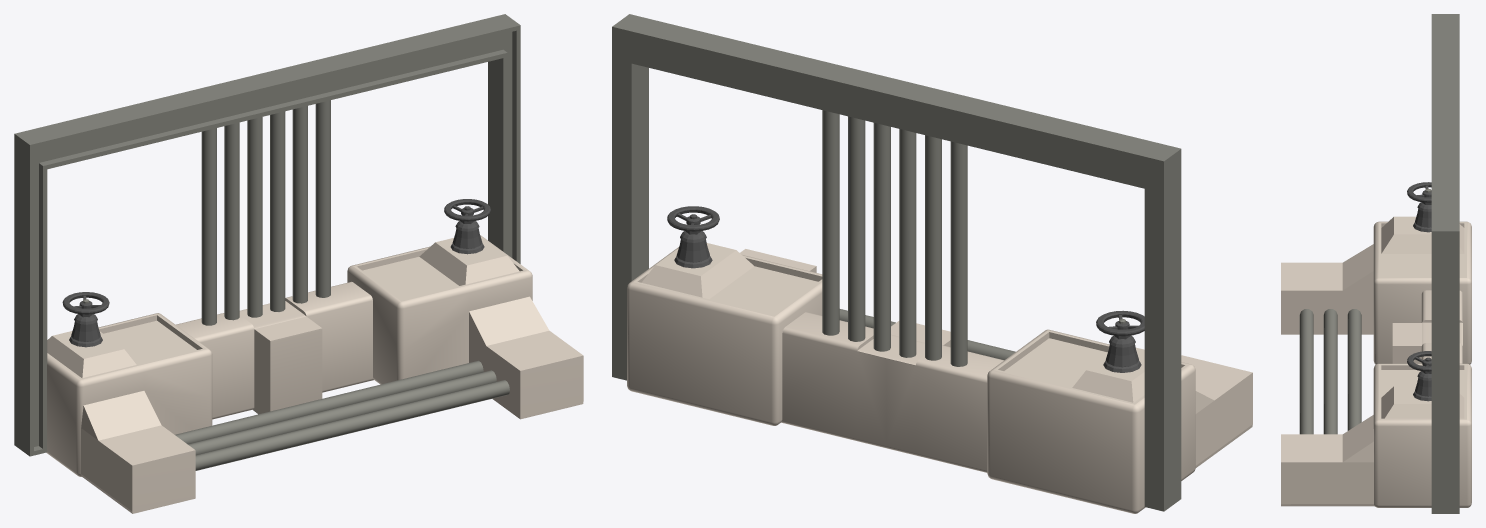
Rendered from controlunit_01.fbx.
The picture shows the model from 3 angles, left to right: view 1: azimuth 30°, elevation 25°; view 2: azimuth 150°, elevation 25°; view 3: azimuth 270°, elevation 25°; orthographic projection. The views are drawn at different scales.
Visible parts, largest first — view 1: controlunit_01; view 2: controlunit_01; view 3: controlunit_01.
Part boxes in pixels (x1,y1,x2,y2): controlunit_01: (14,14,583,513); controlunit_01: (612,14,1252,513); controlunit_01: (1281,14,1471,513).
Size of the model in its own units: 386 by 238 by 143.
